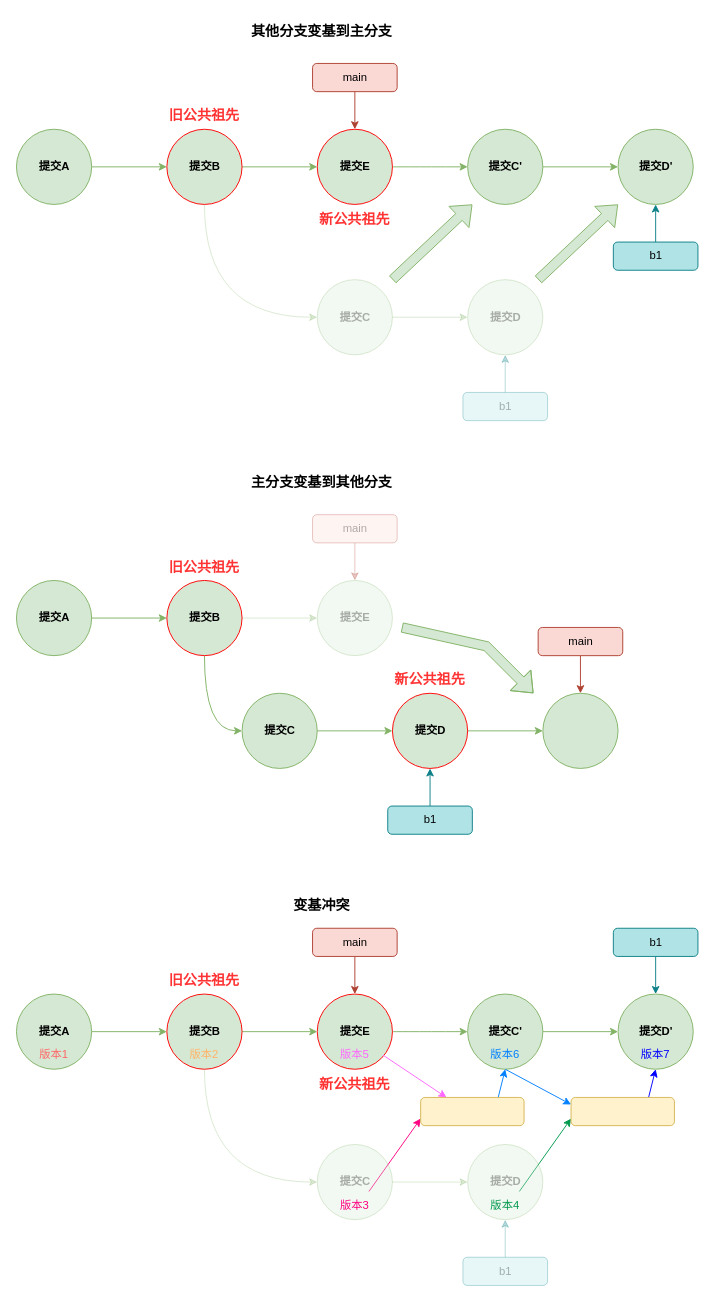
Some shapes in this 714 by 1302 pixel diagram are drawn without their labels. Here are the shapes that lost their labels. From the top down, the centre of each, then its label:
(580,730): 提交E'
(472,1111): 合并 版本3 和 版本5
(622,1111): 合并 版本4 和 版本6
